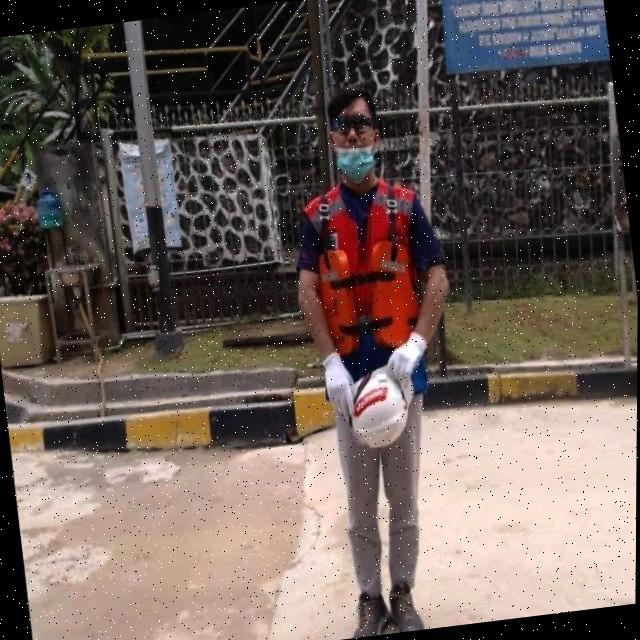goggles_on: (326, 109, 381, 138)
